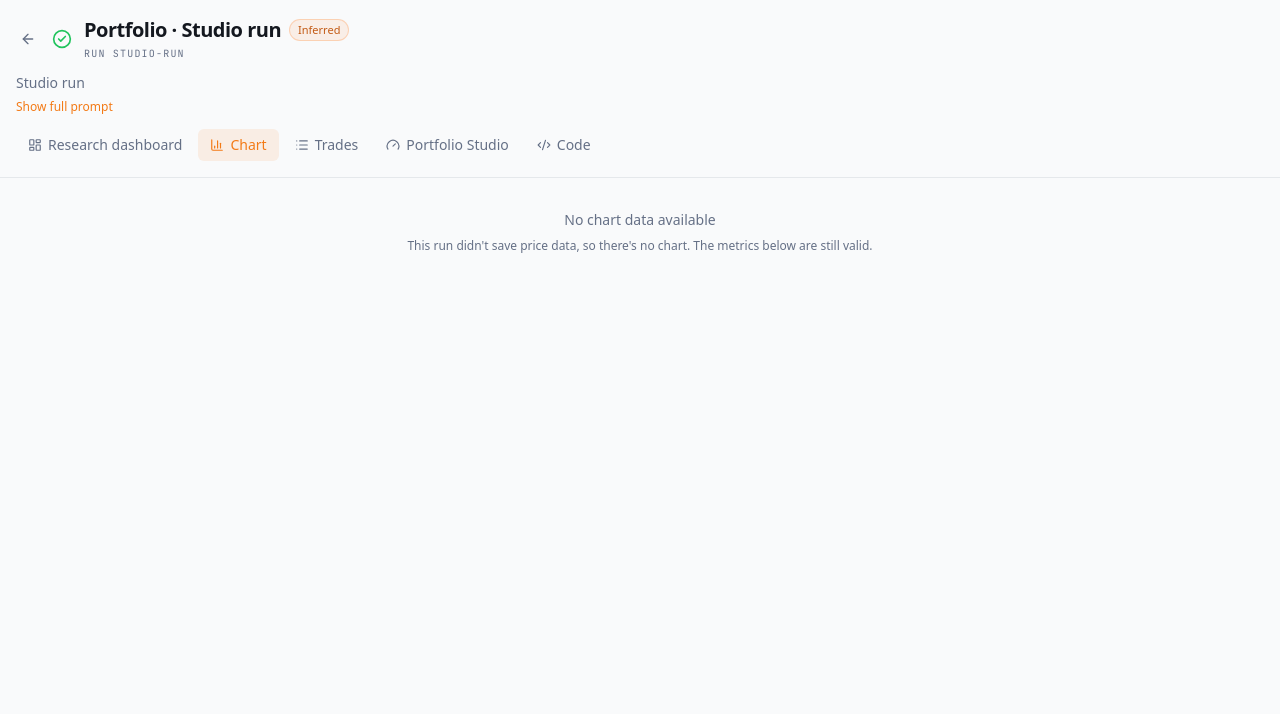
renders the Portfolio Studio tab from risk_xray and rebalance_notes payloads
Expected: the text "Studio run" is shown, [16,73,85,92]
Click the tab "Portfolio Studio" at point(448, 145), box [374,129,521,161]
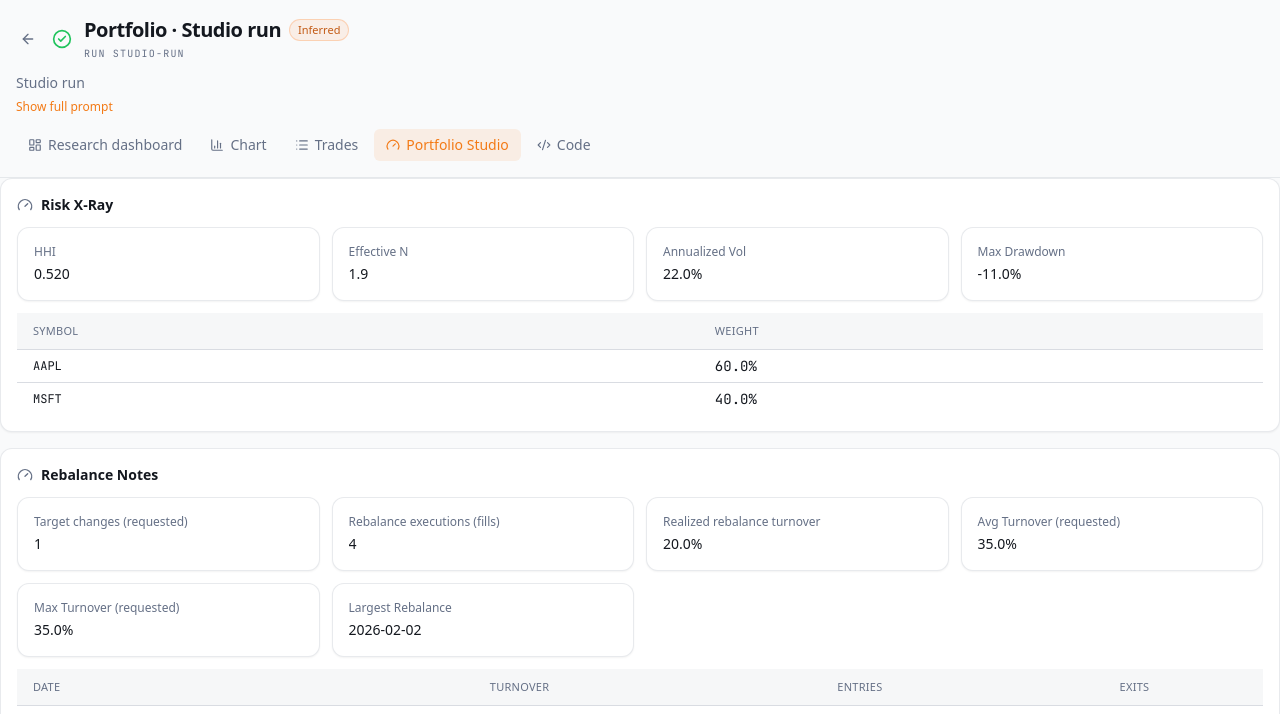
Result: the text "Risk X-Ray" is shown at [17,195,113,214]
Result: the text "0.520" is shown at [34,264,70,283]
Result: the text "22.0%" is shown at [663,264,702,283]
